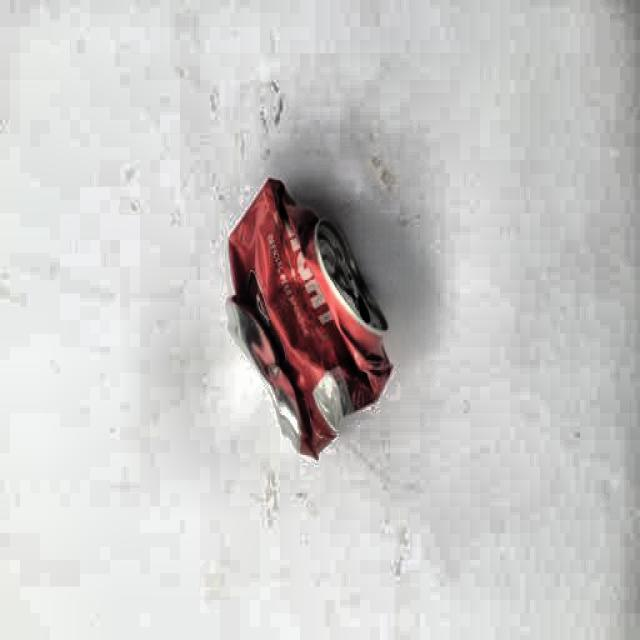metal: (220, 172, 399, 461)
